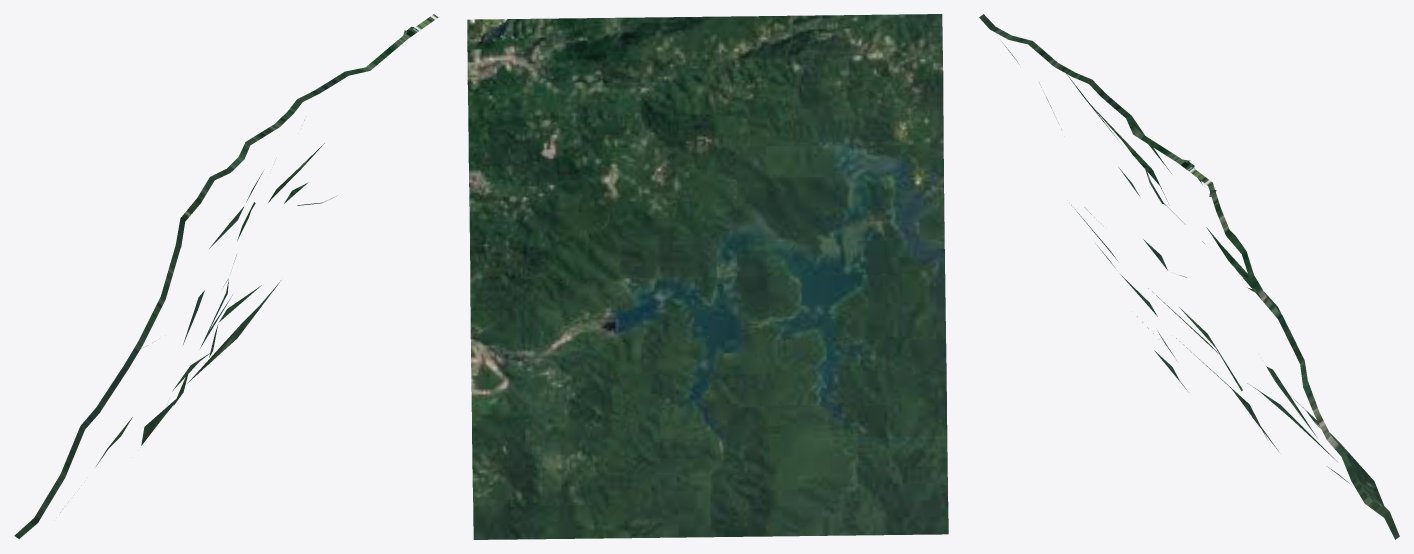
3 views of the same model, side by side, from view 1: azimuth 30°, elevation 25°; view 2: azimuth 150°, elevation 25°; view 3: azimuth 270°, elevation 25° (orthographic). The views are drawn at different scales.
Bounding box in the file's own units: 10026 × 8972 × 8294.
1 material, 1 textured.
